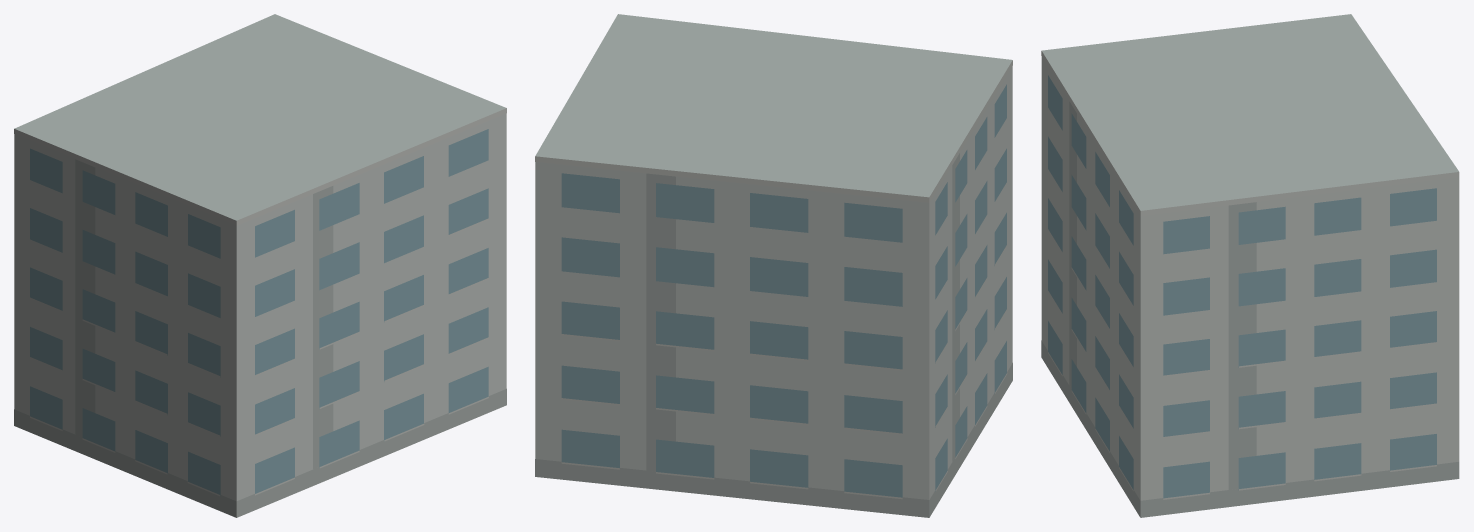
The model's file is survey-upis-32720569.glb.
The picture shows the model from 3 angles, left to right: view 1: azimuth 30°, elevation 25°; view 2: azimuth 150°, elevation 25°; view 3: azimuth 270°, elevation 25°; orthographic projection. The views are drawn at different scales.
Parts seen in each view (by area): view 1: survey-upis-32720569.tmp; view 2: survey-upis-32720569.tmp; view 3: survey-upis-32720569.tmp.
Boxes of the visible parts, <box> form: survey-upis-32720569.tmp: <box>14,14,506,517</box>; survey-upis-32720569.tmp: <box>535,14,1012,517</box>; survey-upis-32720569.tmp: <box>1041,14,1459,517</box>.
Bounding box in the file's own units: 19.13 × 13.9 × 17.16.
